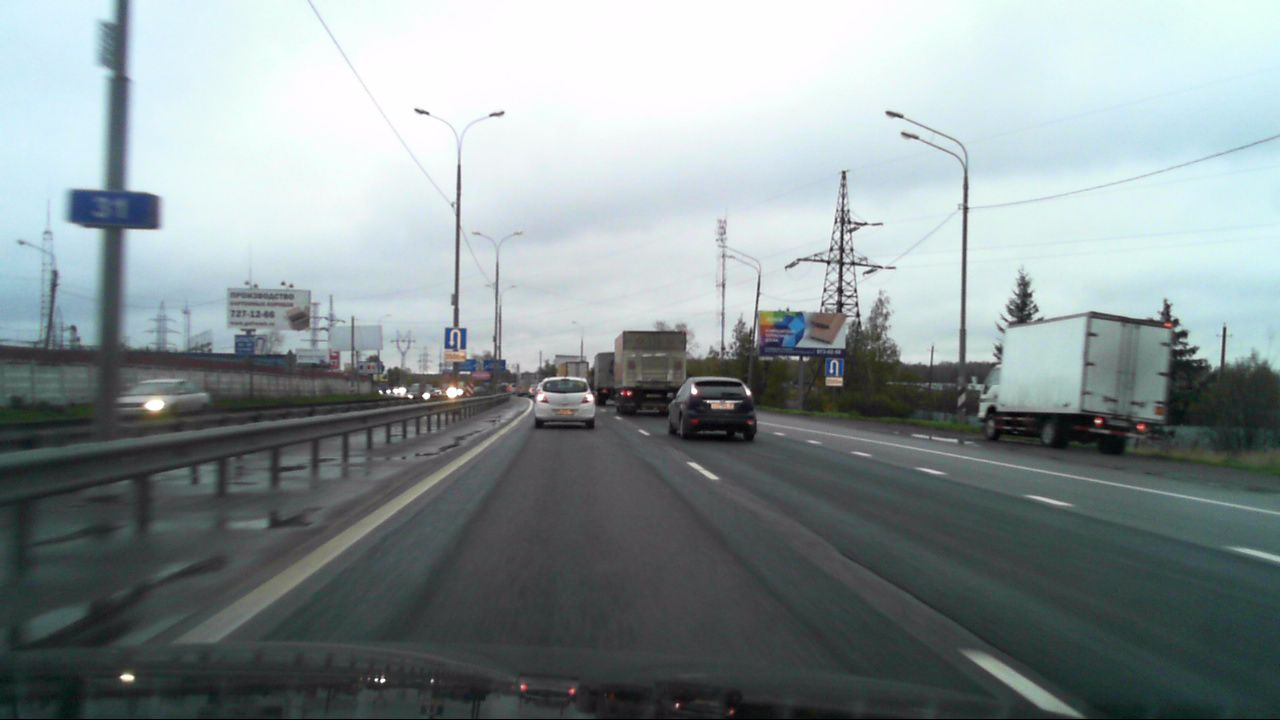U-turn: (446, 328, 466, 350), (825, 358, 844, 377)
